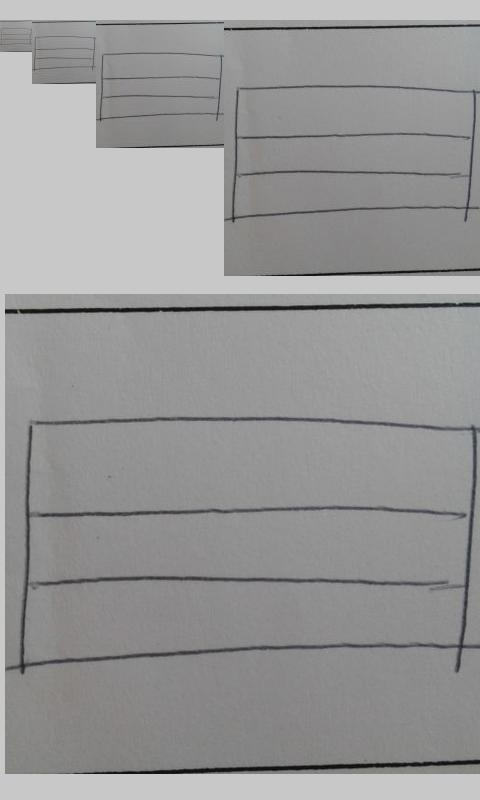list_view: (17, 414, 480, 673), (229, 83, 478, 222), (99, 51, 224, 121), (33, 35, 96, 71), (1, 27, 32, 46)
